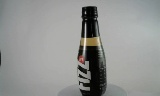appyfizz: (70, 6, 100, 95)
